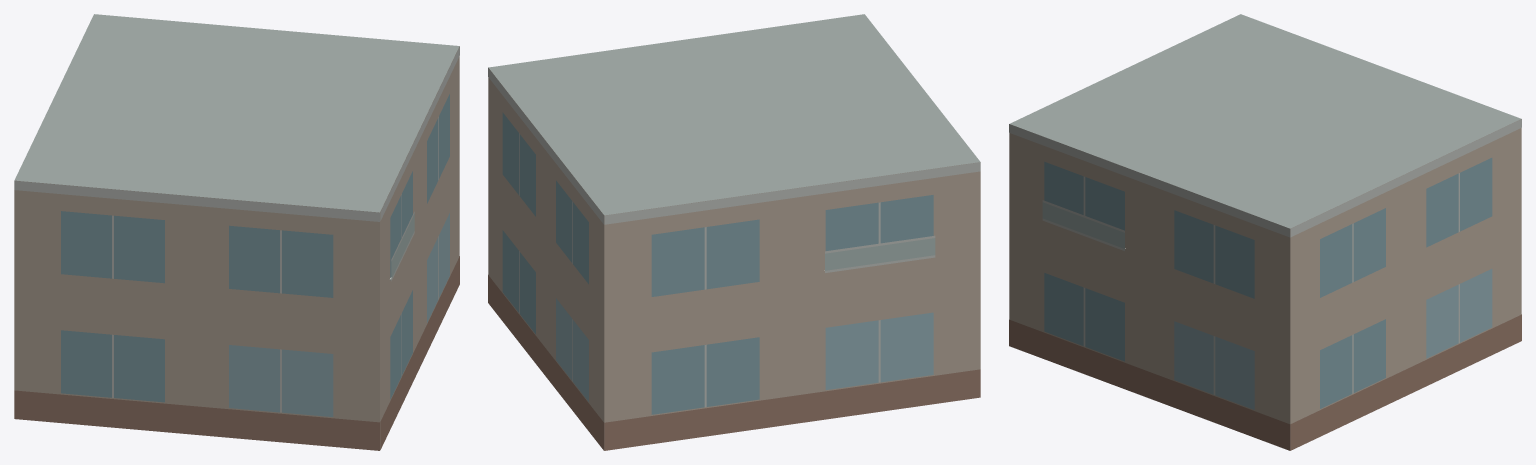
The model's file is survey-upis-32712523.glb.
The picture shows the model from 3 angles, left to right: view 1: azimuth 30°, elevation 25°; view 2: azimuth 150°, elevation 25°; view 3: azimuth 270°, elevation 25°; orthographic projection. The views are drawn at different scales.
Parts seen in each view (by area): view 1: survey-upis-32712523.tmp; view 2: survey-upis-32712523.tmp; view 3: survey-upis-32712523.tmp.
Part boxes in pixels (bbox=[...]): survey-upis-32712523.tmp: bbox=[14, 14, 459, 450]; survey-upis-32712523.tmp: bbox=[488, 14, 980, 450]; survey-upis-32712523.tmp: bbox=[1009, 14, 1521, 450].
Bounding box in the file's own units: 12.65 × 6.1 × 12.76.
